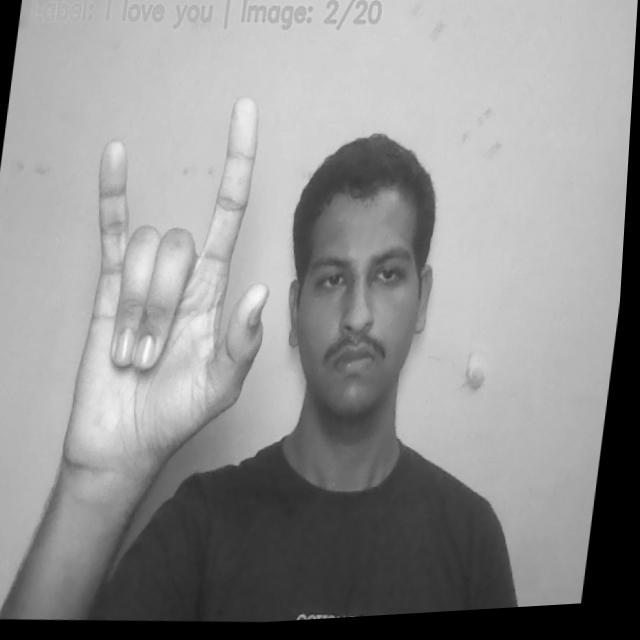I love you: (56, 64, 298, 497)
